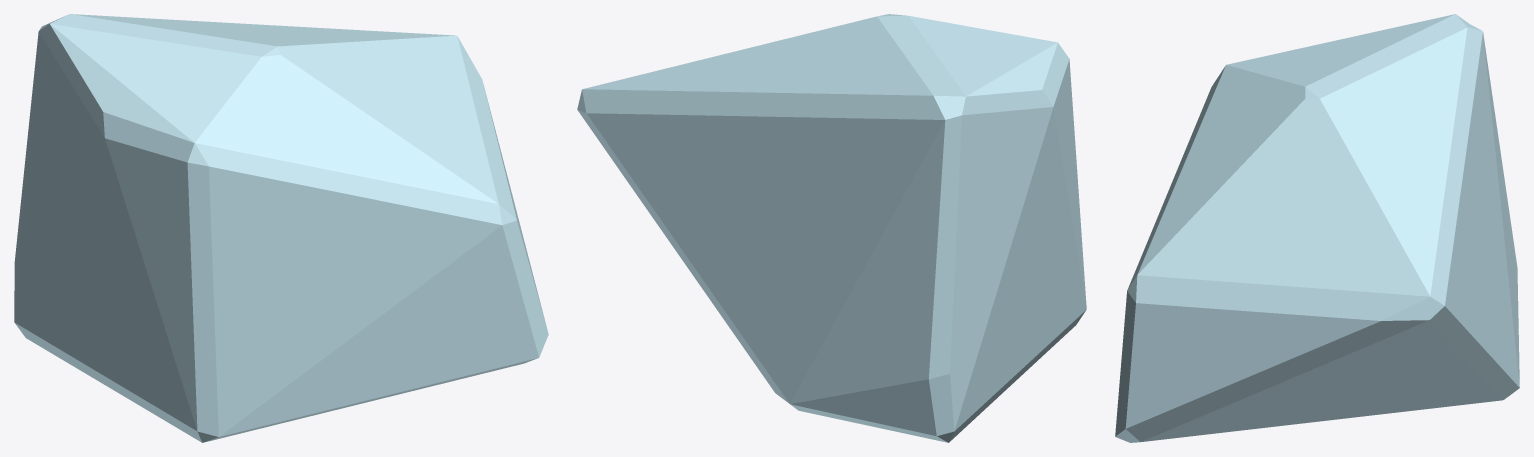
File: ice_chunk_c.glb
3 renders of one model, left to right at view 1: azimuth 30°, elevation 25°; view 2: azimuth 150°, elevation 25°; view 3: azimuth 270°, elevation 25°, orthographic. The views are drawn at different scales.
Visible parts, largest first — view 1: IceChunk; view 2: IceChunk; view 3: IceChunk.
Part boxes in pixels (left/top/right/bottom): IceChunk: left=14, top=14, right=548, bottom=442; IceChunk: left=577, top=14, right=1086, bottom=442; IceChunk: left=1115, top=14, right=1519, bottom=442.
Bounding box in the file's own units: 0.7003 × 0.5288 × 0.6084.
